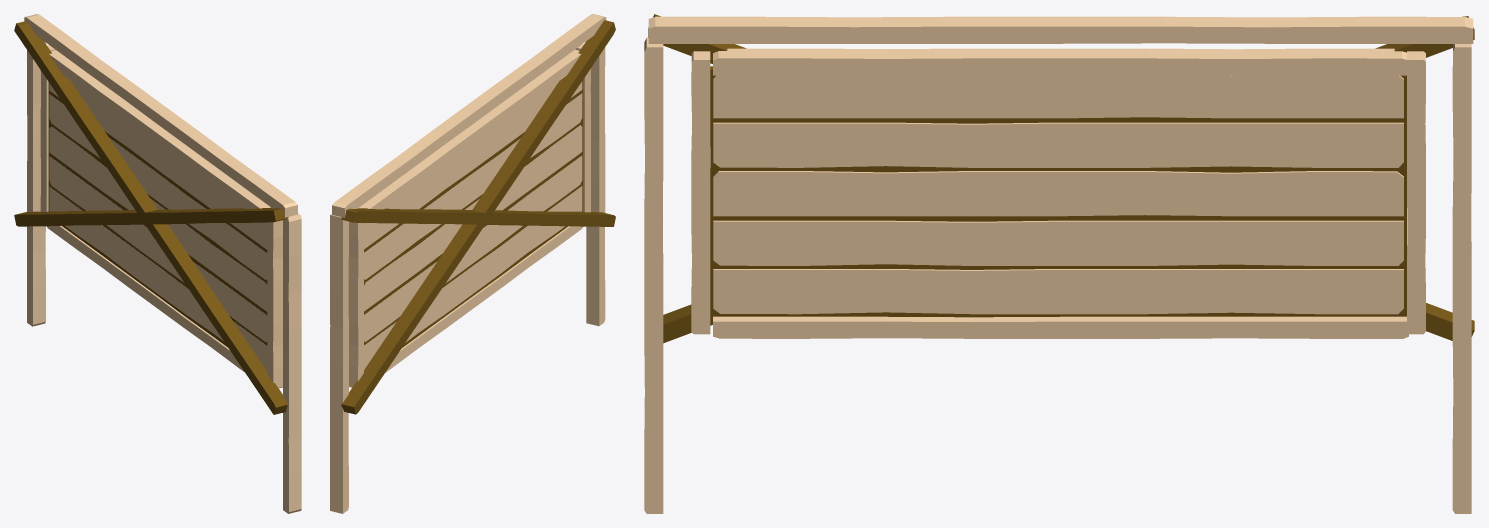
Rendered from WoodBoard.fbx.
3 views of the same model, side by side, from view 1: azimuth 30°, elevation 25°; view 2: azimuth 150°, elevation 25°; view 3: azimuth 270°, elevation 25° (orthographic). The views are drawn at different scales.
Visible parts, largest first — view 1: WoodBoard; view 2: WoodBoard; view 3: WoodBoard.
Part boxes in pixels (x1,y1,x2,y2): WoodBoard: (14,14,301,513); WoodBoard: (330,14,615,513); WoodBoard: (644,14,1474,513).
Size of the model in its own units: 0.2829 by 3.35 by 5.19.
